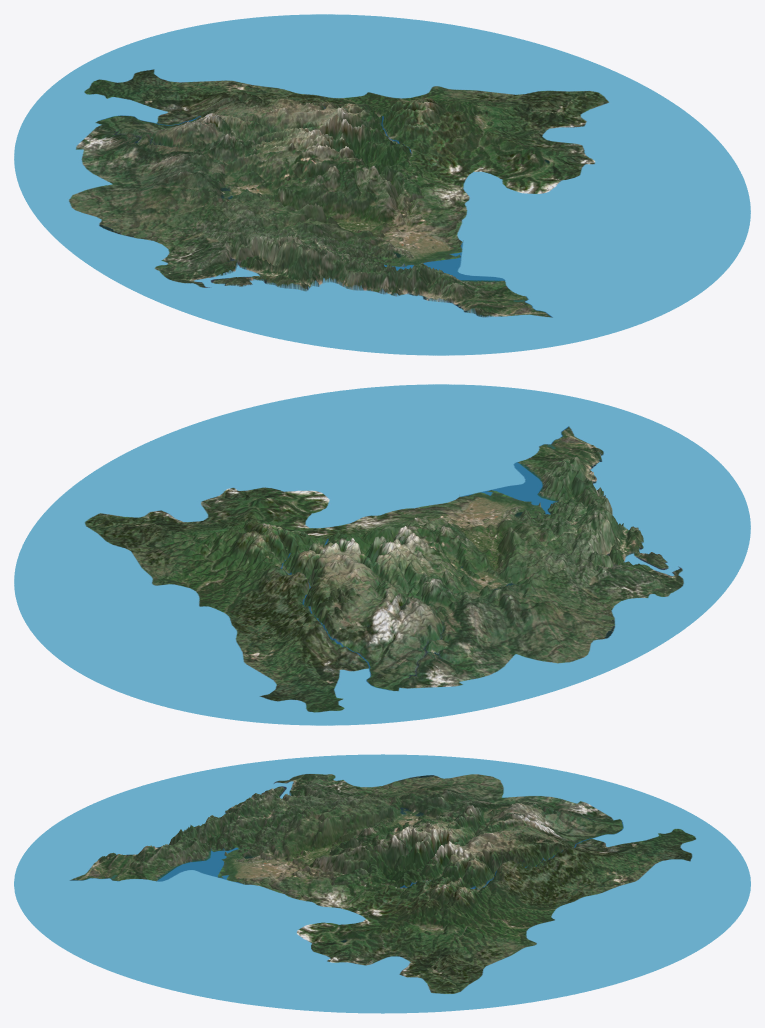
The model's file is MNE-previa-terrain.glb.
The picture shows the model from 3 angles, top to bottom: view 1: azimuth 30°, elevation 25°; view 2: azimuth 150°, elevation 25°; view 3: azimuth 270°, elevation 25°; orthographic projection. The views are drawn at different scales.
Visible parts, largest first — view 1: Montenegro; view 2: Montenegro; view 3: Montenegro.
Boxes of the visible parts, left/top/right/bottom form: Montenegro: left=14, top=14, right=750, bottom=355; Montenegro: left=14, top=384, right=750, bottom=725; Montenegro: left=14, top=754, right=750, bottom=1013.
Size of the model in its own units: 1.72 by 0.1213 by 2.07.
Materials: 1 (1 with a texture image).
